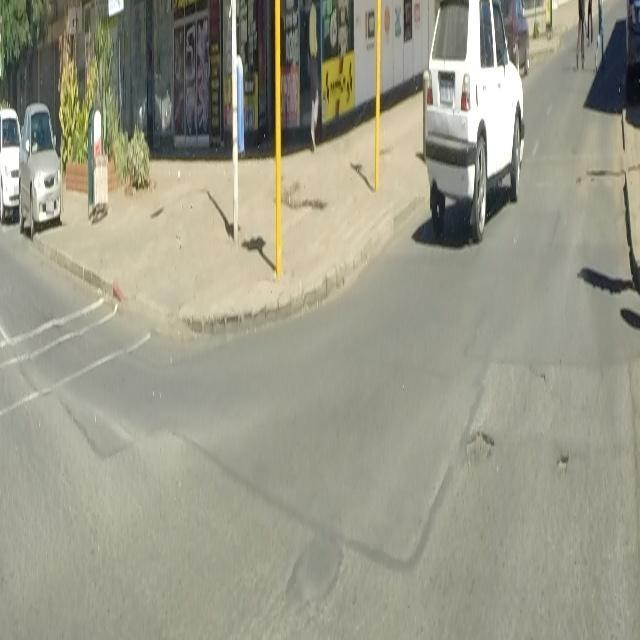pothole: (465, 428, 495, 464), (557, 454, 570, 475)
